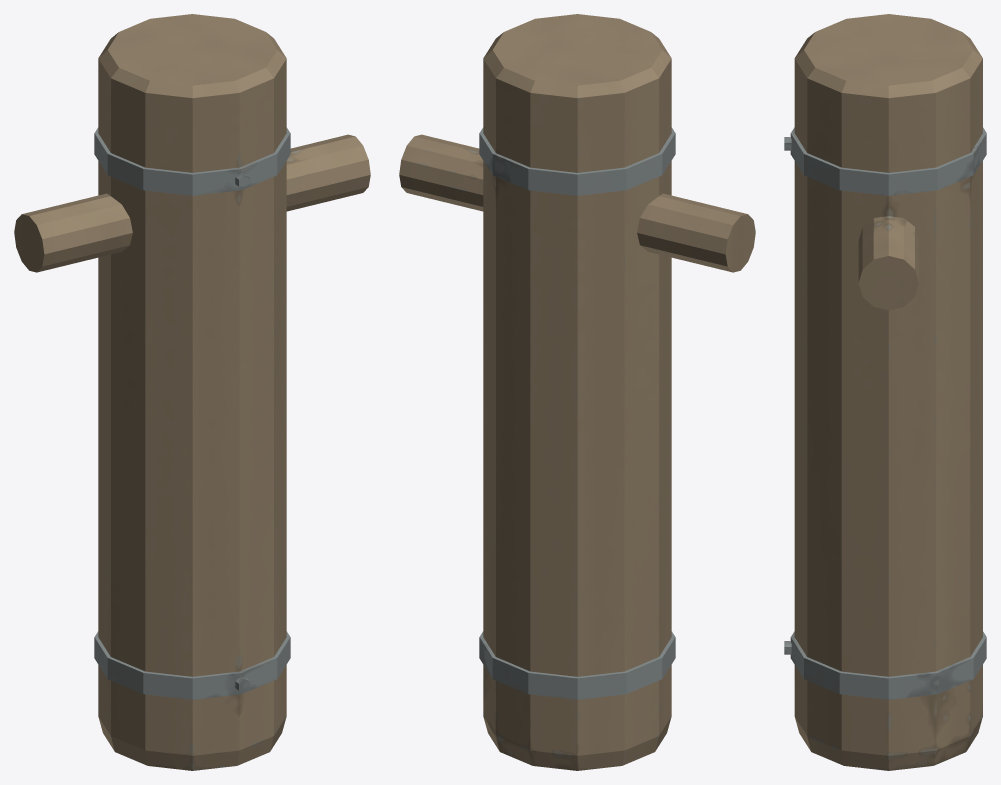
Rendered from lake_mooring_bollard_timber.glb.
The picture shows the model from 3 angles, left to right: view 1: azimuth 30°, elevation 25°; view 2: azimuth 150°, elevation 25°; view 3: azimuth 270°, elevation 25°; orthographic projection.
Parts seen in each view (by area): view 1: MooringBollardTimber; view 2: MooringBollardTimber; view 3: MooringBollardTimber.
Boxes of the visible parts, <box> form: MooringBollardTimber: <box>14,14,370,770</box>; MooringBollardTimber: <box>399,14,755,770</box>; MooringBollardTimber: <box>784,14,986,770</box>.
Size of what is drawn, in the model's own units: 0.4 by 0.8 by 0.215.
1 material, 1 textured.
